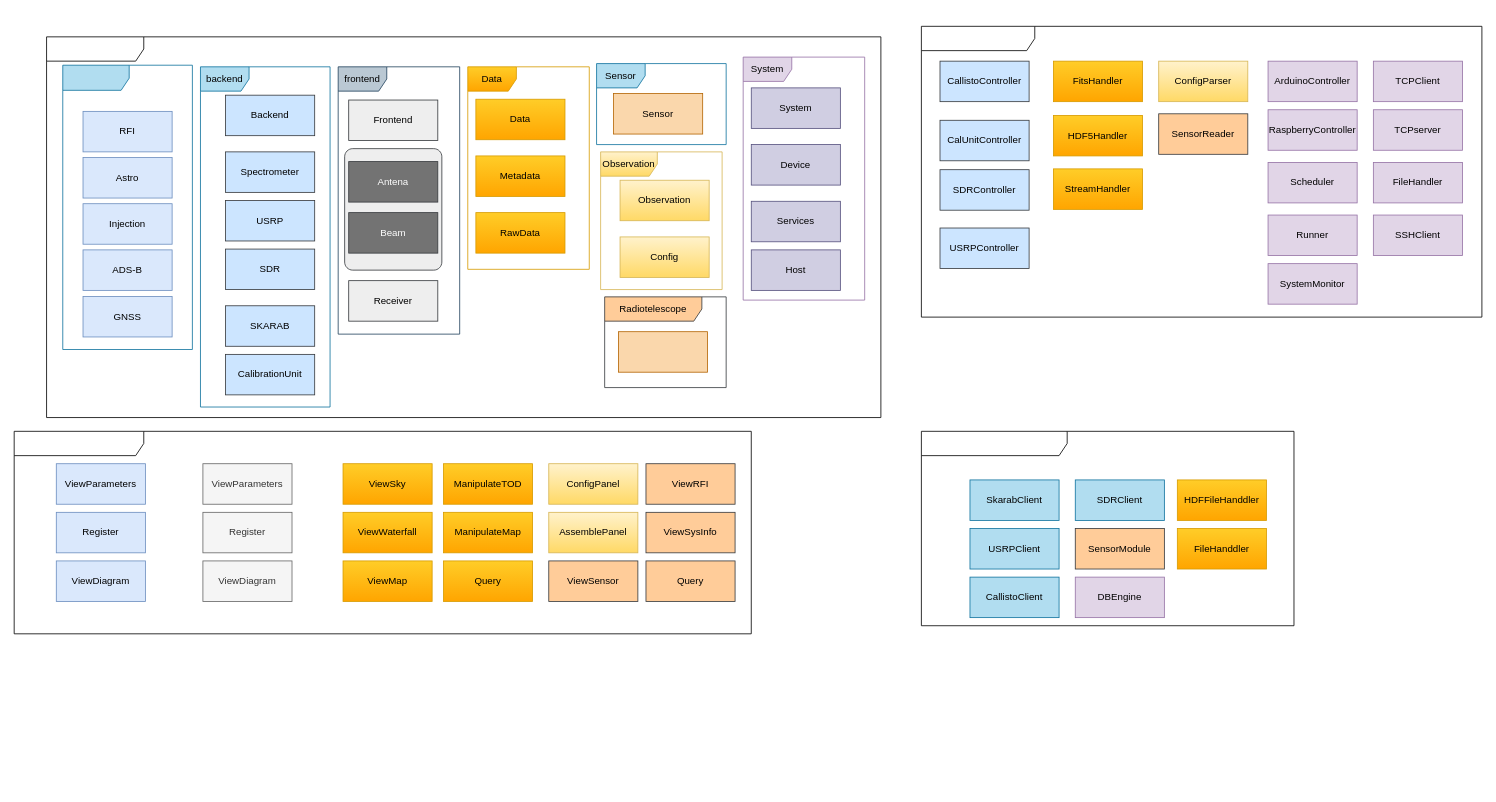
Image size: 1496x802. Some labels were removed from this diagram. The box of each missing label's shape, as (x1, y1, x2, y2) in pixels:
Application: (921, 26, 1482, 317)
Domain: (46, 36, 881, 418)
Infrastructure: (921, 431, 1294, 626)
presentation: (13, 431, 751, 634)
SignalSource: (62, 64, 192, 350)
Uirapuru: (618, 331, 708, 372)
